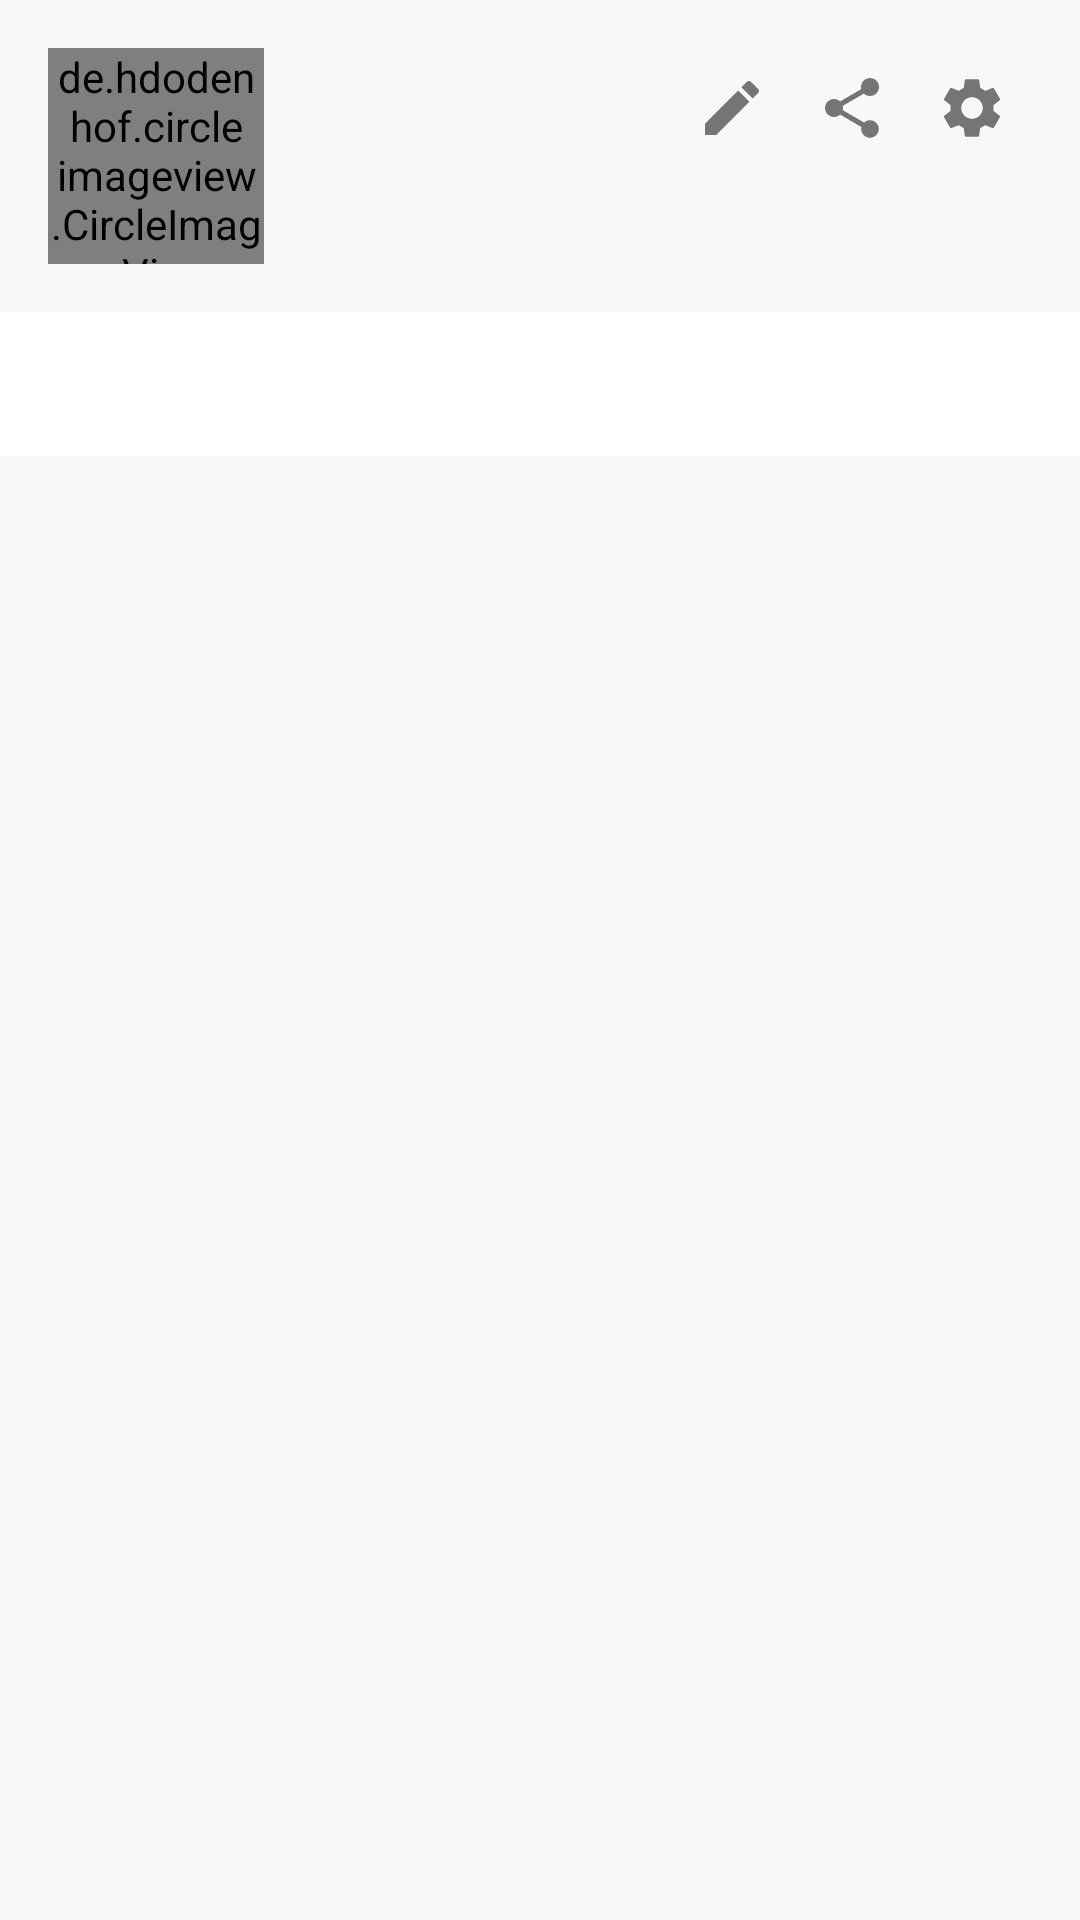

Screen size 1080 × 1920. Icon name, then its box in pixels as Rect(x1, y1, x2, y2):
Chia sẻ: Rect(825, 78, 879, 138)
Chỉnh sửa: Rect(705, 81, 759, 135)
Cài đặt: Rect(944, 79, 1000, 137)
